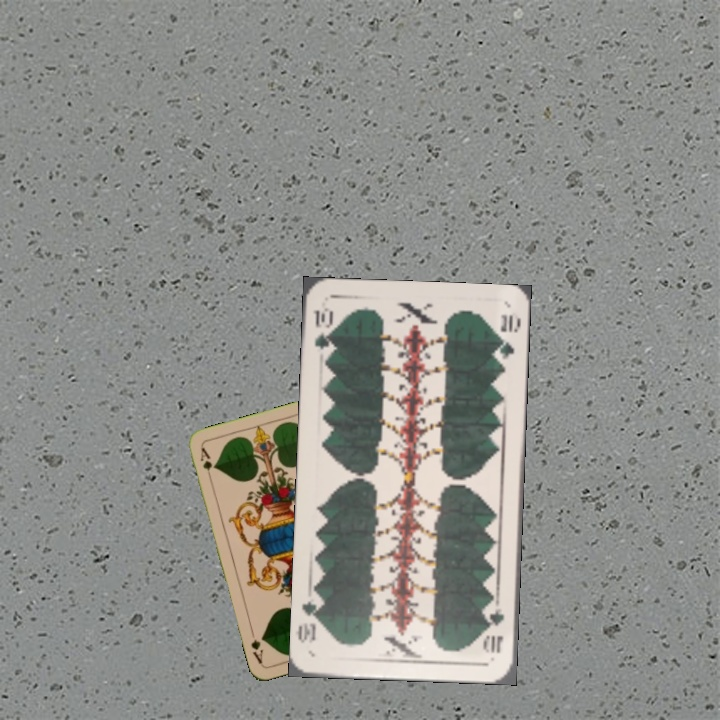G10: (482, 604, 506, 656), (311, 303, 336, 352)
GA: (196, 443, 214, 484)
